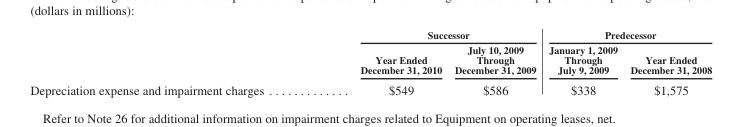table: (29, 28, 711, 96)
table column: (29, 28, 311, 96), (311, 28, 447, 96), (447, 28, 541, 96), (623, 28, 711, 96), (541, 28, 623, 96)
table column header: (29, 28, 711, 78)
table row: (29, 41, 711, 78), (29, 78, 711, 96), (29, 28, 711, 41)
table spanning cell: (311, 28, 541, 41), (541, 28, 711, 41)
